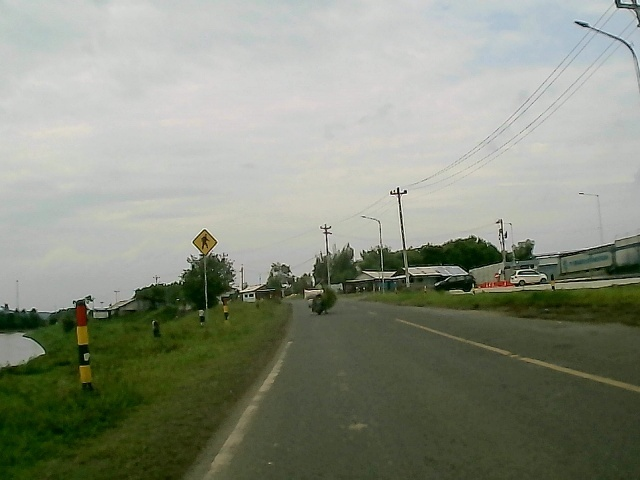Peringatan orang menyeberang: (190, 227, 220, 257)
